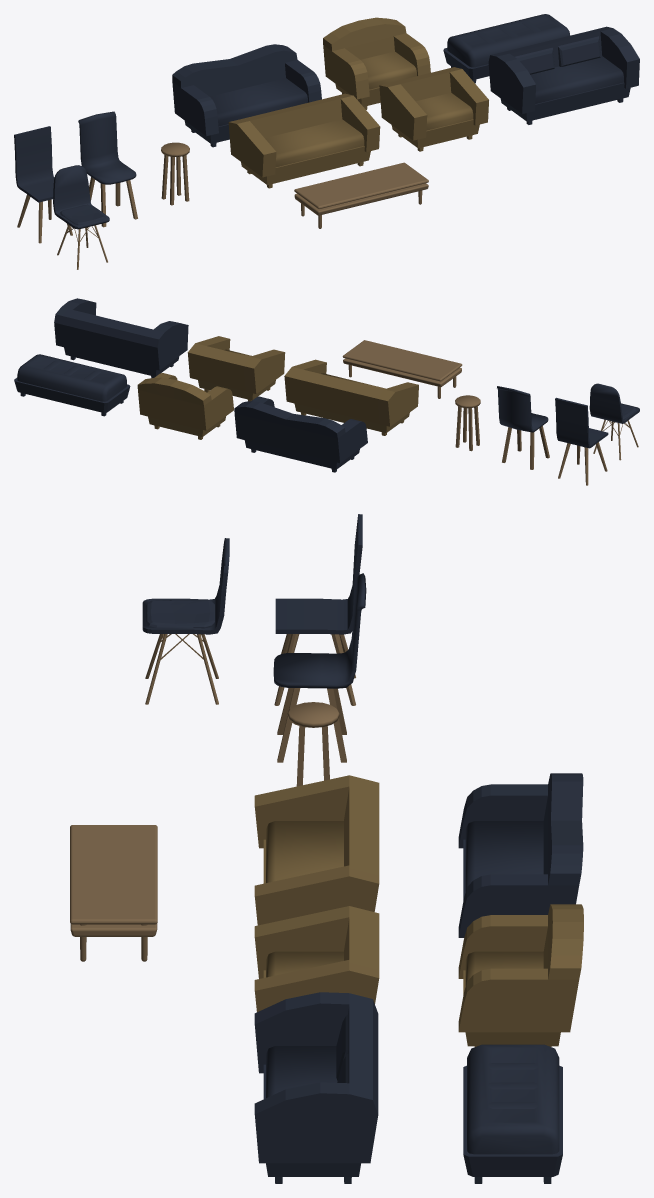
Rendered from Seating.fbx.
3 renders of one model, top to bottom at view 1: azimuth 30°, elevation 25°; view 2: azimuth 150°, elevation 25°; view 3: azimuth 270°, elevation 25°, orthographic. The views are drawn at different scales.
Visible parts, largest first — view 1: Sofa 3, Sofa 2, Sofa 1, Sofa 2 Alt, Sofa 1 Alt, Coffee Table, Sofa 4, Chair 2, Chair 1, Chair 3, Stool; view 2: Sofa 3, Sofa 1, Sofa 2, Sofa 4, Sofa 1 Alt, Sofa 2 Alt, Coffee Table, Chair 1, Chair 2, Chair 3, Stool; view 3: Sofa 3, Sofa 2, Sofa 1, Sofa 1 Alt, Sofa 4, Sofa 2 Alt, Coffee Table, Chair 2, Chair 3, Chair 1, Stool.
Boxes of the visible parts, <box> form: Sofa 3: <box>488,26,639,124</box>; Sofa 2: <box>228,93,380,188</box>; Sofa 1: <box>172,44,321,147</box>; Sofa 2 Alt: <box>379,67,488,151</box>; Sofa 1 Alt: <box>323,17,430,109</box>; Coffee Table: <box>294,162,428,228</box>; Sofa 4: <box>443,14,570,83</box>; Chair 2: <box>78,111,137,227</box>; Chair 1: <box>14,126,72,243</box>; Chair 3: <box>53,165,109,269</box>; Stool: <box>161,142,189,205</box>; Sofa 3: <box>54,298,188,378</box>; Sofa 1: <box>234,396,367,472</box>; Sofa 2: <box>284,359,418,435</box>; Sofa 4: <box>14,354,130,416</box>; Sofa 1 Alt: <box>137,373,233,439</box>; Sofa 2 Alt: <box>187,336,285,401</box>; Coffee Table: <box>342,340,462,398</box>; Chair 1: <box>555,397,608,485</box>; Chair 2: <box>497,386,549,469</box>; Chair 3: <box>589,383,639,460</box>; Stool: <box>455,395,480,451</box>; Sofa 3: <box>254,992,378,1183</box>; Sofa 2: <box>254,775,379,925</box>; Sofa 1: <box>458,773,583,937</box>; Sofa 1 Alt: <box>458,904,583,1046</box>; Sofa 4: <box>463,1044,562,1183</box>; Sofa 2 Alt: <box>254,906,379,1012</box>; Coffee Table: <box>70,825,157,961</box>; Chair 2: <box>273,573,366,762</box>; Chair 3: <box>142,538,229,704</box>; Chair 1: <box>274,514,362,705</box>; Stool: <box>287,702,339,786</box>.
Bounding box in the file's own units: 9.17 × 1.36 × 3.86.
